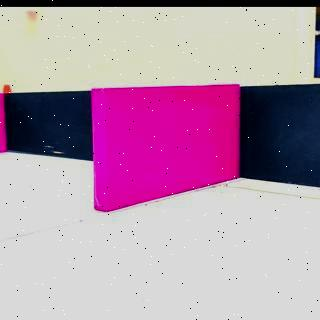xparking: (94, 87, 240, 183)
